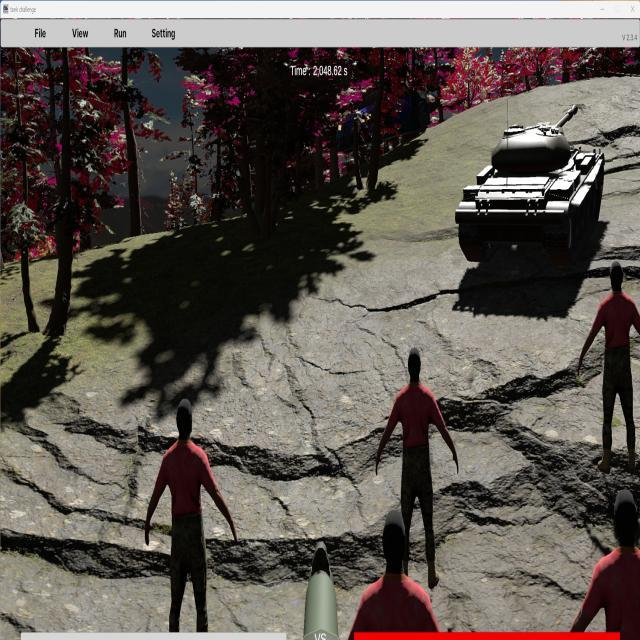Human: (144, 397, 237, 634), (374, 346, 459, 586), (578, 258, 640, 475), (555, 489, 640, 639)
Tank: (457, 104, 606, 267)
